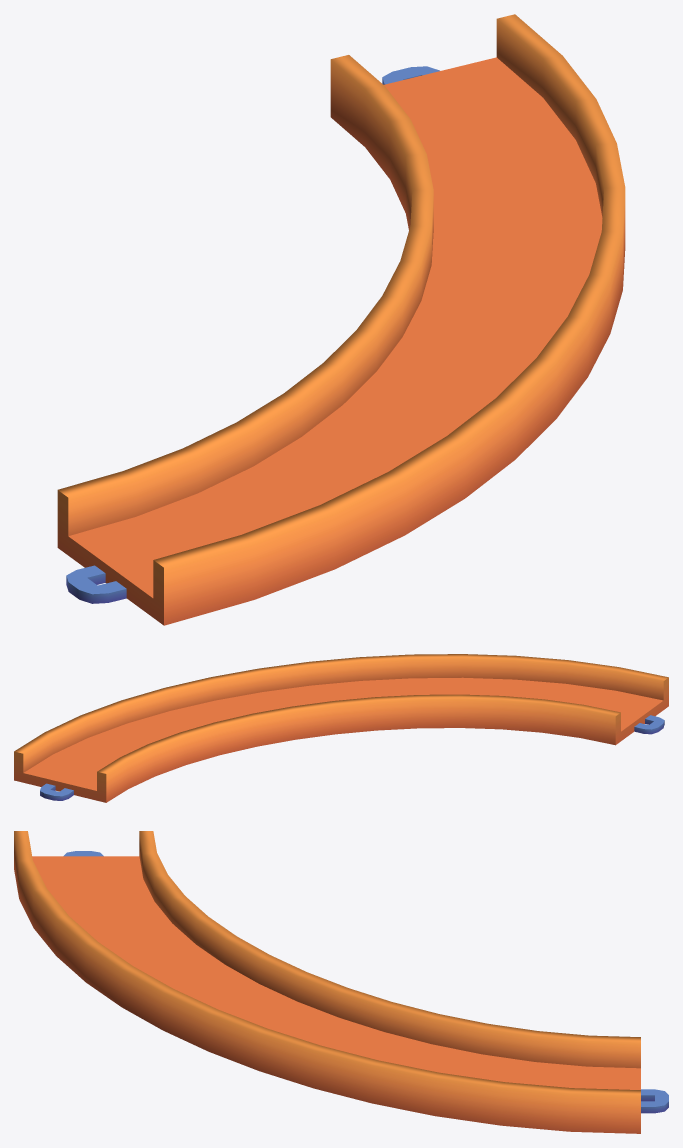
The model's file is kenney-toy-car-track-narrow-corner-large.glb.
The picture shows the model from 3 angles, top to bottom: view 1: azimuth 30°, elevation 25°; view 2: azimuth 150°, elevation 25°; view 3: azimuth 270°, elevation 25°; orthographic projection. The views are drawn at different scales.
Visible parts, largest first — view 1: track-narrow-corner-large; view 2: track-narrow-corner-large; view 3: track-narrow-corner-large.
Part boxes in pixels (bbox=[...]): track-narrow-corner-large: bbox=[57, 14, 625, 625]; track-narrow-corner-large: bbox=[14, 654, 668, 802]; track-narrow-corner-large: bbox=[14, 831, 668, 1133].
Bounding box in the file's own units: 4.7 × 0.3001 × 4.7.
1 material, 1 textured.
